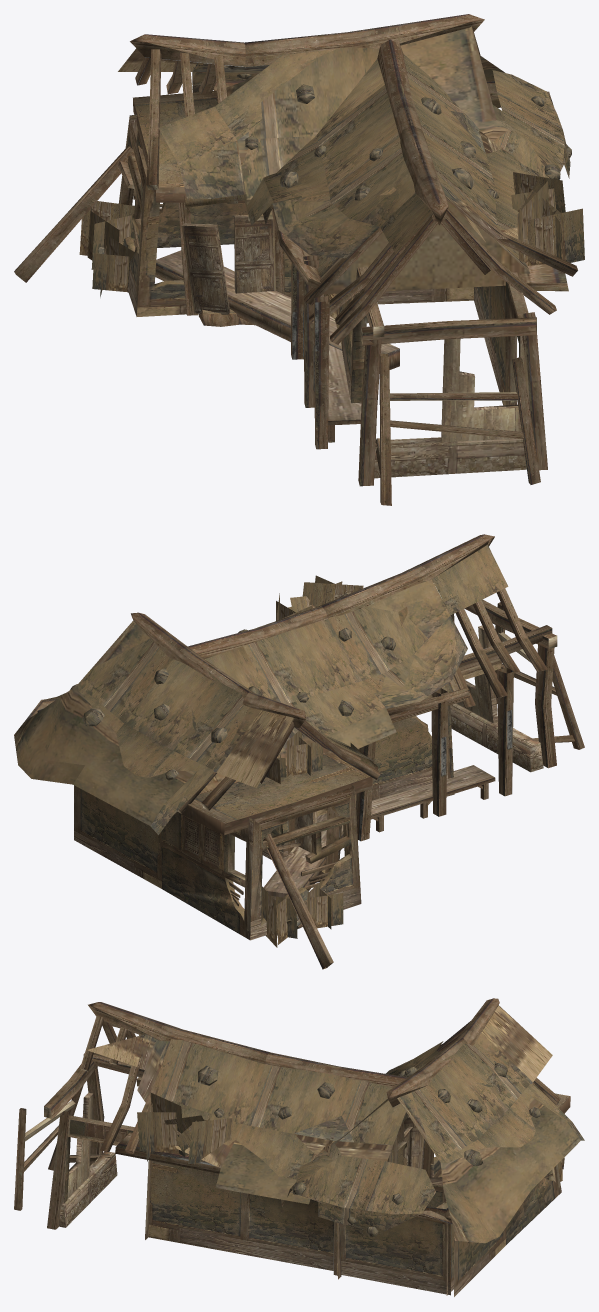
Rendered from s_battle_04_house_01.FBX.
3 renders of one model, top to bottom at view 1: azimuth 30°, elevation 25°; view 2: azimuth 150°, elevation 25°; view 3: azimuth 270°, elevation 25°, orthographic. The views are drawn at different scales.
Visible parts, largest first — view 1: s_battle_04_house_01; view 2: s_battle_04_house_01; view 3: s_battle_04_house_01.
Part boxes in pixels (left/top/right/bottom): s_battle_04_house_01: left=14, top=14, right=584, bottom=505; s_battle_04_house_01: left=14, top=534, right=584, bottom=969; s_battle_04_house_01: left=14, top=998, right=584, bottom=1296.
Bounding box in the file's own units: 17.07 × 9.86 × 24.44.
Materials: 1 (1 with a texture image).
